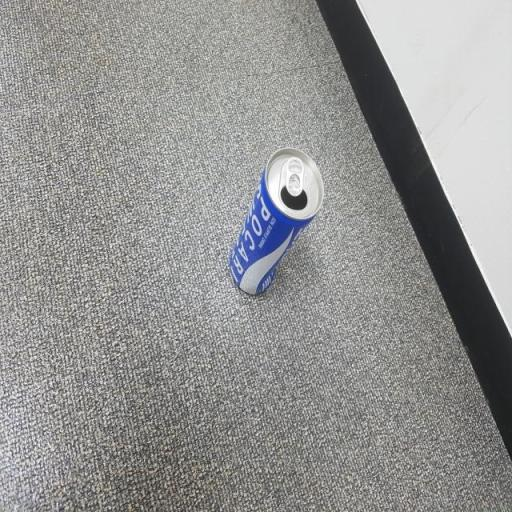metal: (226, 131, 335, 332)
